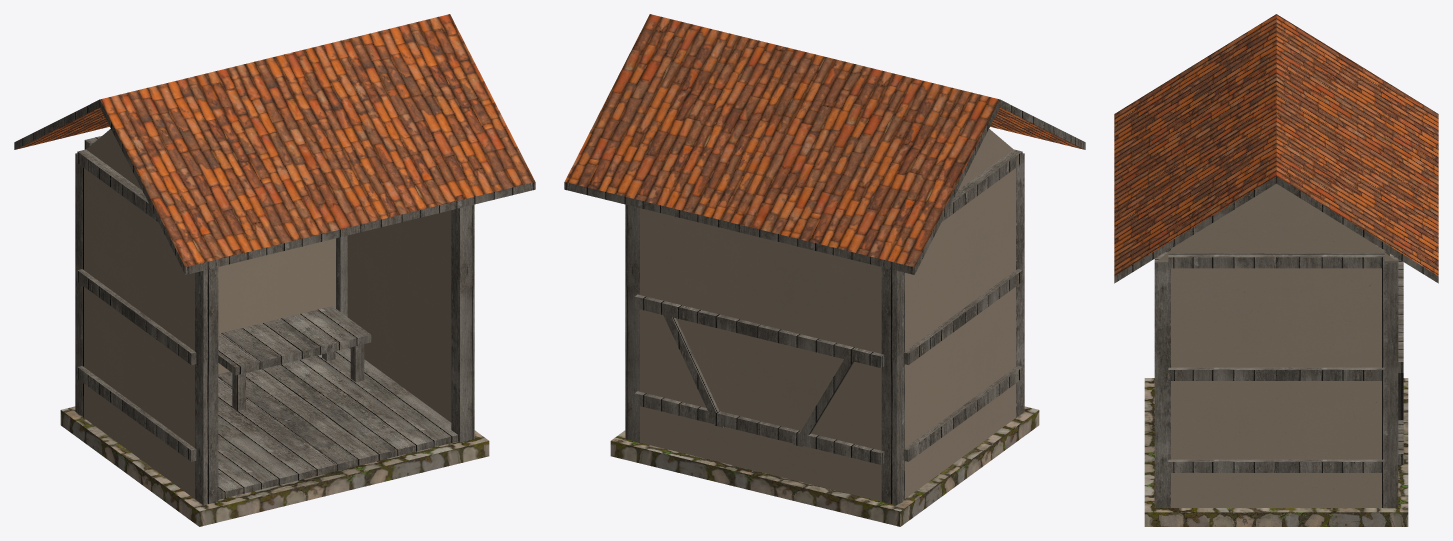
Rendered from Prop_AlchemistHut.fbx.
3 views of the same model, side by side, from view 1: azimuth 30°, elevation 25°; view 2: azimuth 150°, elevation 25°; view 3: azimuth 270°, elevation 25° (orthographic). The views are drawn at different scales.
Parts seen in each view (by area): view 1: AlchemistHut_Mesh; view 2: AlchemistHut_Mesh; view 3: AlchemistHut_Mesh.
Part boxes in pixels (<box>): AlchemistHut_Mesh: <box>14,14,535,526</box>; AlchemistHut_Mesh: <box>564,14,1085,526</box>; AlchemistHut_Mesh: <box>1114,14,1438,526</box>.
Bounding box in the file's own units: 2.84 × 2.98 × 2.4.
Materials: 4 (4 with a texture image).
